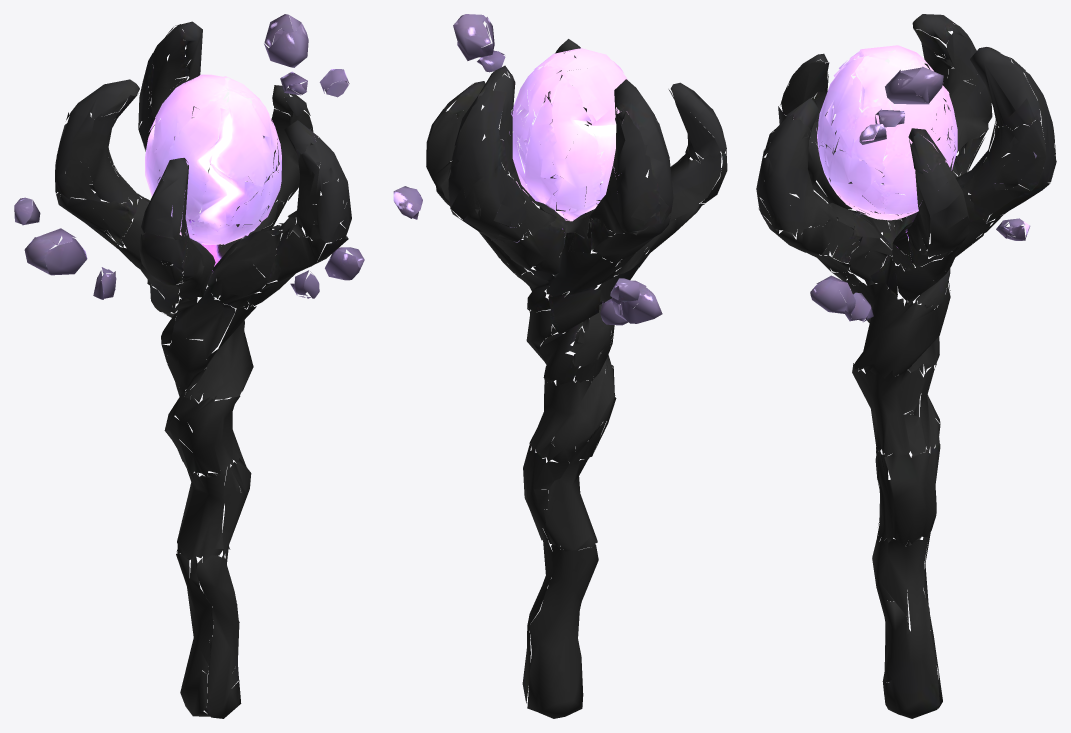
Rendered from Arm_archon_staff-C0HVrS_l.glb.
The picture shows the model from 3 angles, left to right: view 1: azimuth 30°, elevation 25°; view 2: azimuth 150°, elevation 25°; view 3: azimuth 270°, elevation 25°; orthographic projection.
Parts seen in each view (by area): view 1: Arm_archon_staff; view 2: Arm_archon_staff; view 3: Arm_archon_staff.
Part boxes in pixels (x1,y1,x2,y2): Arm_archon_staff: (14, 14, 364, 718); Arm_archon_staff: (393, 14, 727, 718); Arm_archon_staff: (756, 14, 1056, 718).
Bounding box in the file's own units: 0.9772 × 2.41 × 0.9578.
1 material, 1 textured.
